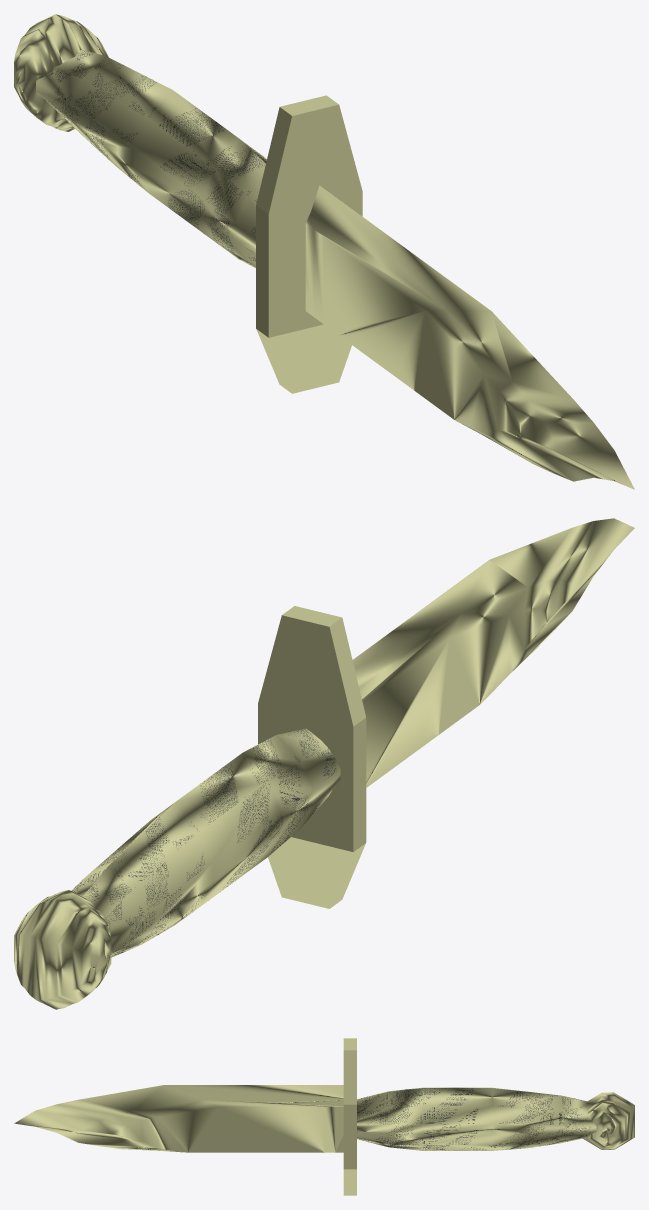
File: model_align.obj
3 views of the same model, one above another, from view 1: azimuth 30°, elevation 25°; view 2: azimuth 150°, elevation 25°; view 3: azimuth 270°, elevation 25° (orthographic). The views are drawn at different scales.
Bounding box in the file's own units: 0.021 × 0.0593 × 0.23.
